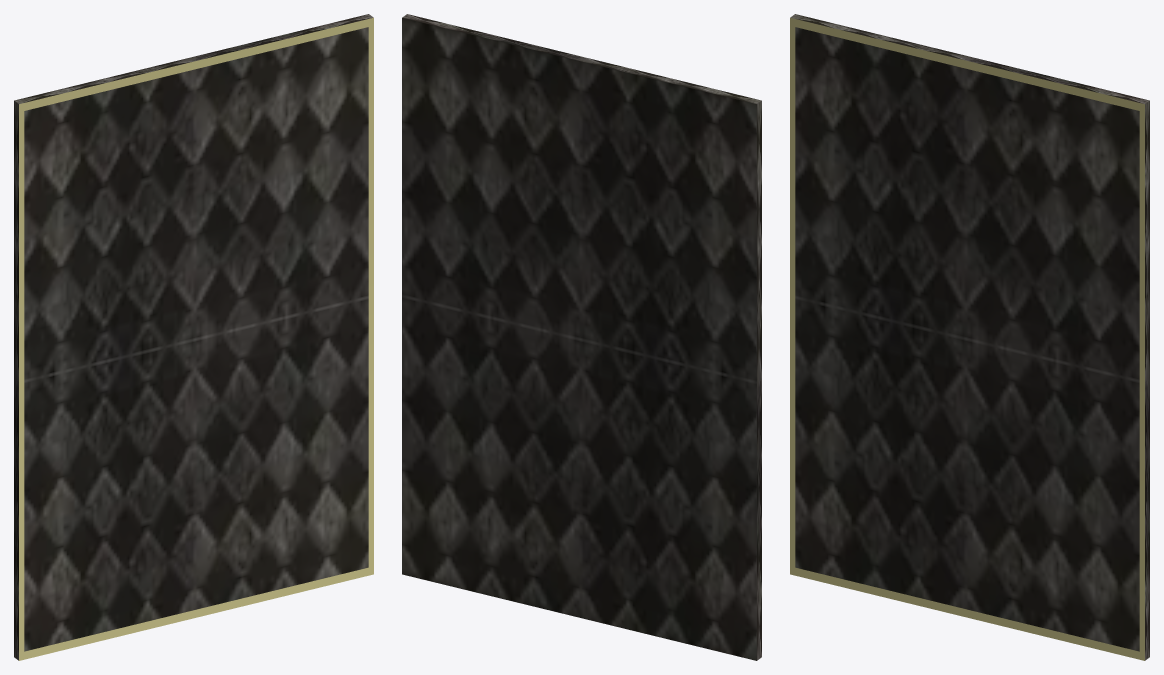
3 views of the same model, side by side, from view 1: azimuth 30°, elevation 25°; view 2: azimuth 150°, elevation 25°; view 3: azimuth 330°, elevation 25° (orthographic).
Parts seen in each view (by area): view 1: model_object80; view 2: model_object80; view 3: model_object80.
Boxes of the visible parts, x1,y1,x2,y2 form: model_object80: (14,14,373,660); model_object80: (402,14,761,660); model_object80: (790,14,1149,660).
Bounding box in the file's own units: 2.04 × 3.06 × 0.05.
Materials: 2 (2 with a texture image).
